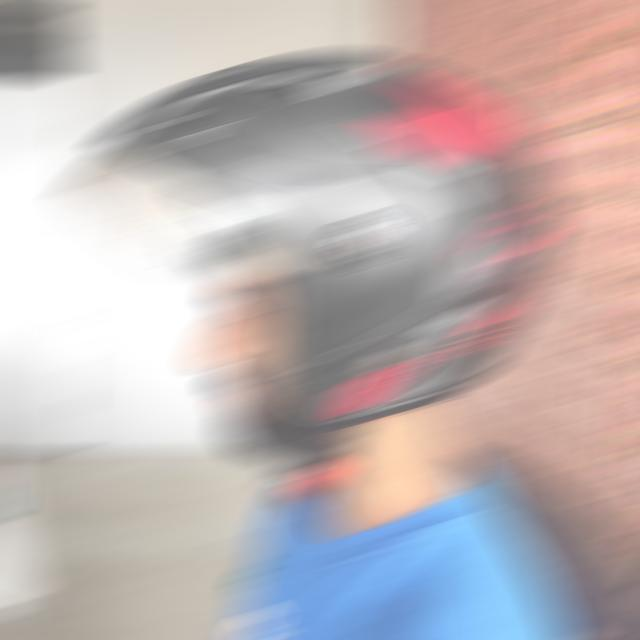With Helmet: (56, 53, 566, 426)
